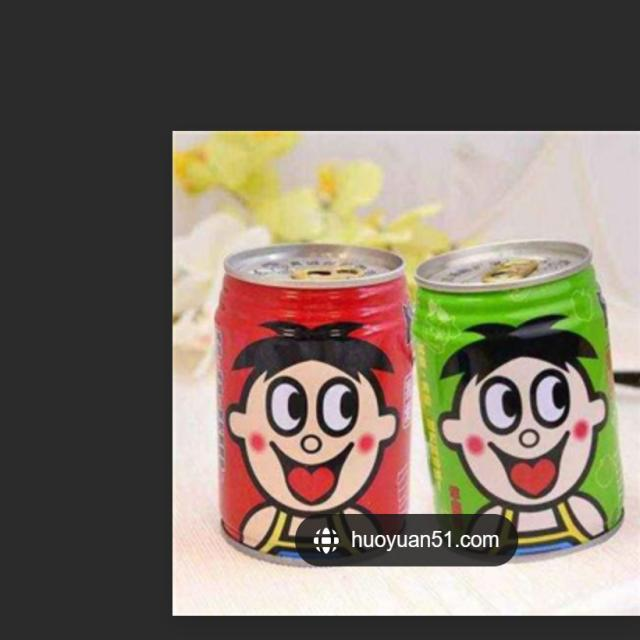wangzai_milk: (442, 319, 612, 553), (229, 320, 394, 557)
